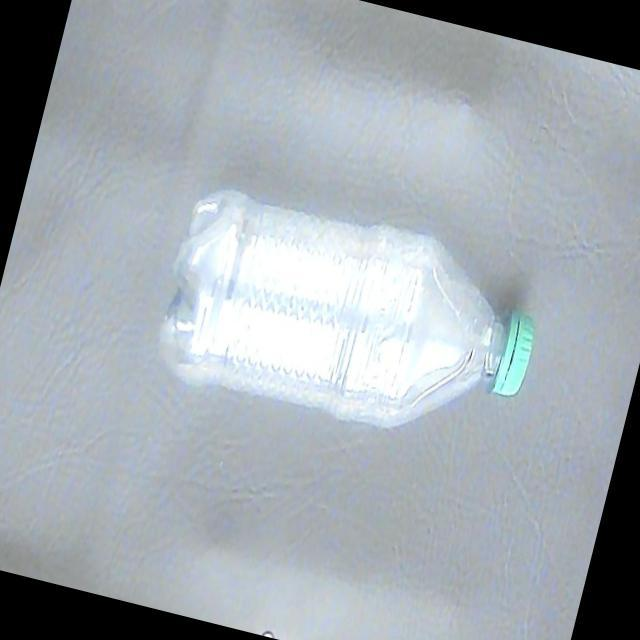good: (142, 168, 556, 471)
